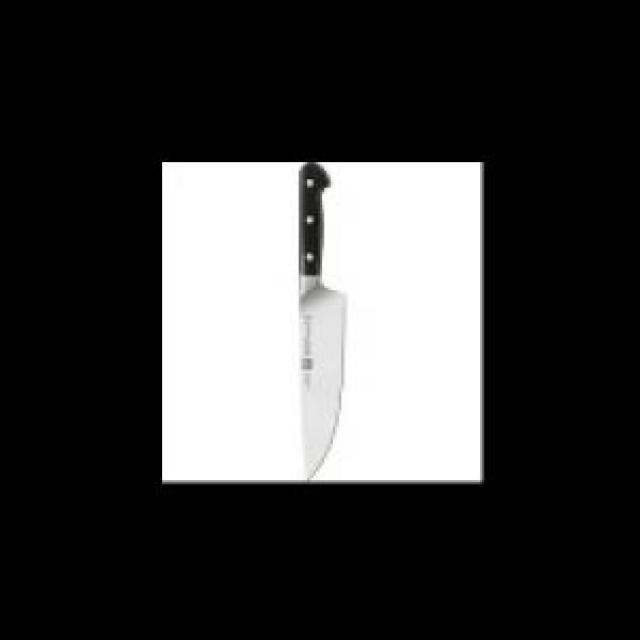knife: (288, 166, 354, 480)
